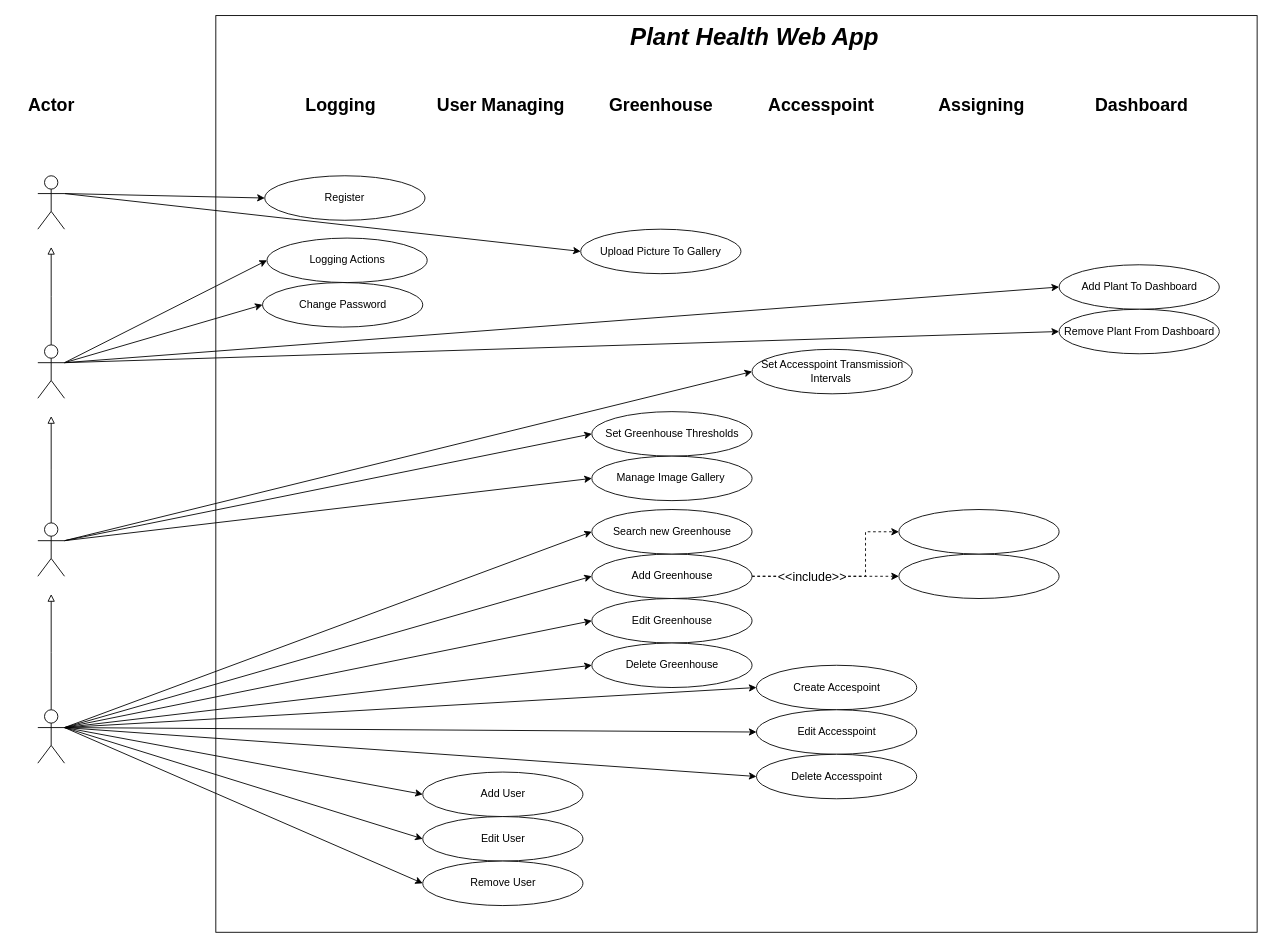
This 1273x948 diagram has some shape labels left out. The shapes that lost their labels are listed below. From the top down, each one's centre as x and y in pixels, then its label:
At (x=51, y=202): "Visitor".
At (x=51, y=371): "User".
At (x=51, y=549): "Gardener".
At (x=978, y=531): "Assign Greenhouse to Accesspoint".
At (x=978, y=576): "Assign Greenhouse to Gardener".
At (x=51, y=736): "Administrator".
